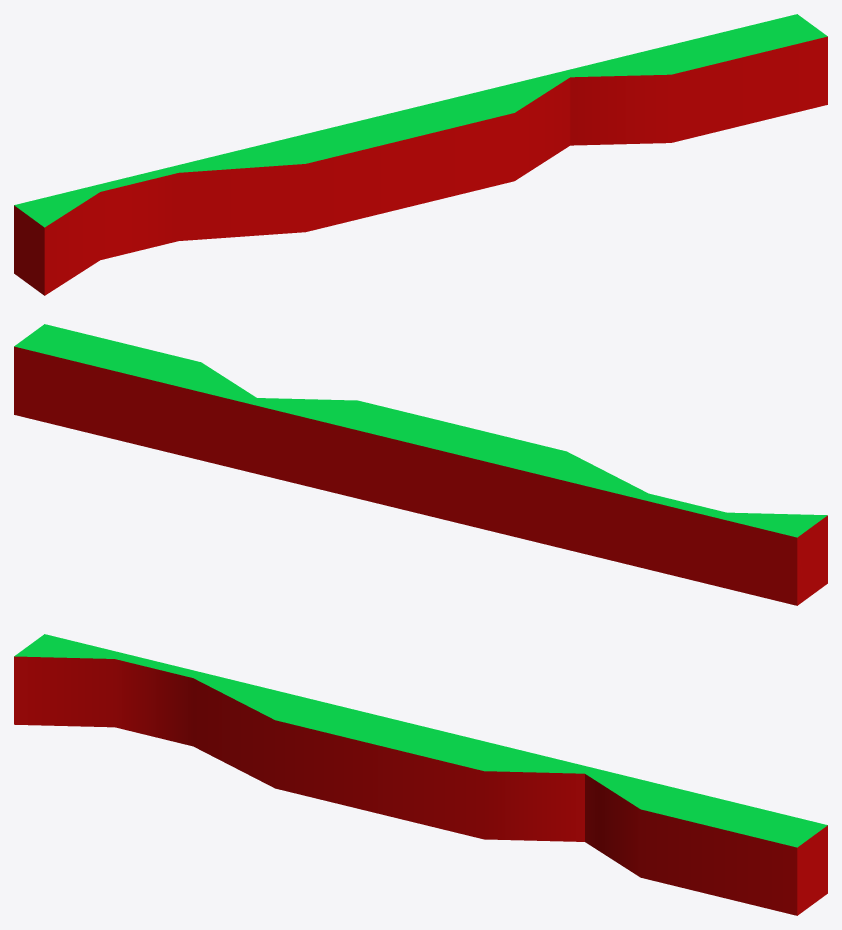
File: Ground LittleCrackedRight.fbx
3 views of the same model, one above another, from view 1: azimuth 30°, elevation 25°; view 2: azimuth 150°, elevation 25°; view 3: azimuth 330°, elevation 25° (orthographic).
Visible parts, largest first — view 1: polySurface2; view 2: polySurface2; view 3: polySurface2.
Part boxes in pixels (<box>): polySurface2: <box>14,14,827,295</box>; polySurface2: <box>14,324,827,605</box>; polySurface2: <box>14,634,827,915</box>.
Size of the model in its own units: 6 by 0.5 by 0.4066.
